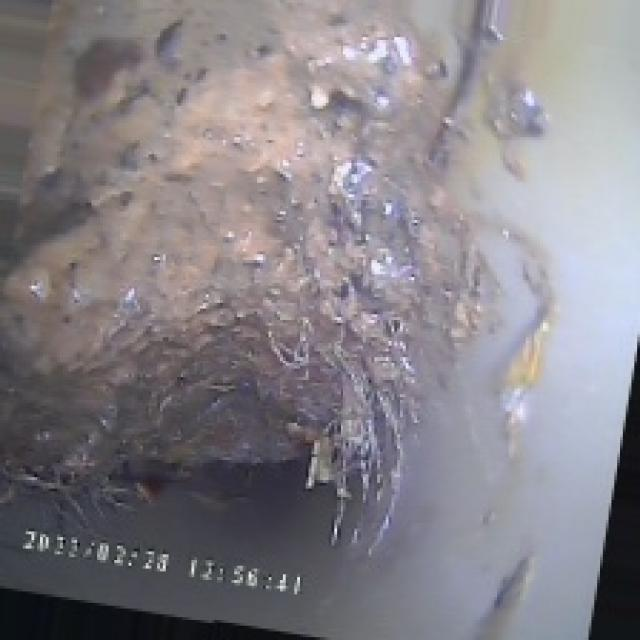sluge accumulation: (52, 46, 497, 528)
